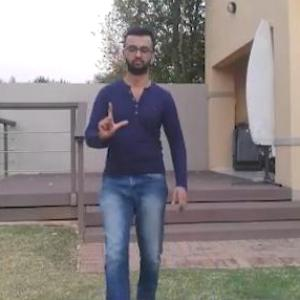land_hand: (90, 87, 131, 140)
